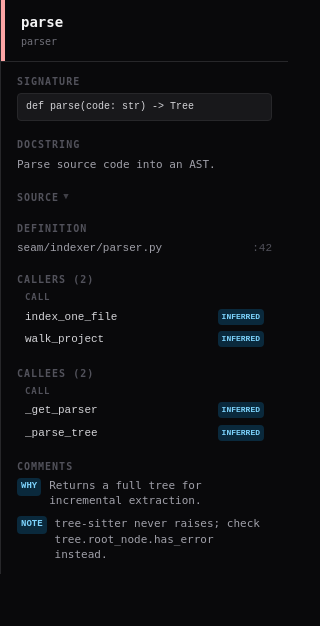
Test: DetailPanel B4 — Source section: not-found branch › shows a not-found message with a hint to re-run seam init
The width and height of the screenshot is (320, 626).
expect the heading "parse" is shown: met, box [21,14,63,30]
Click the button "Source ▼" at {"x": 144, "y": 197}, box [17,190,272,205]
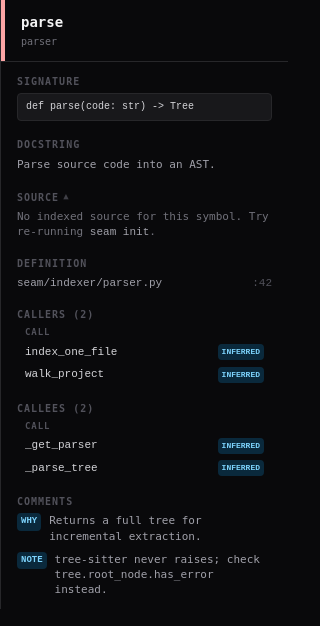
expect the text "No indexed source for this symbol. Try re-running seam init." is shown: met, box [17,209,272,240]
expect the text "seam init" is shown: met, box [90,226,149,238]
